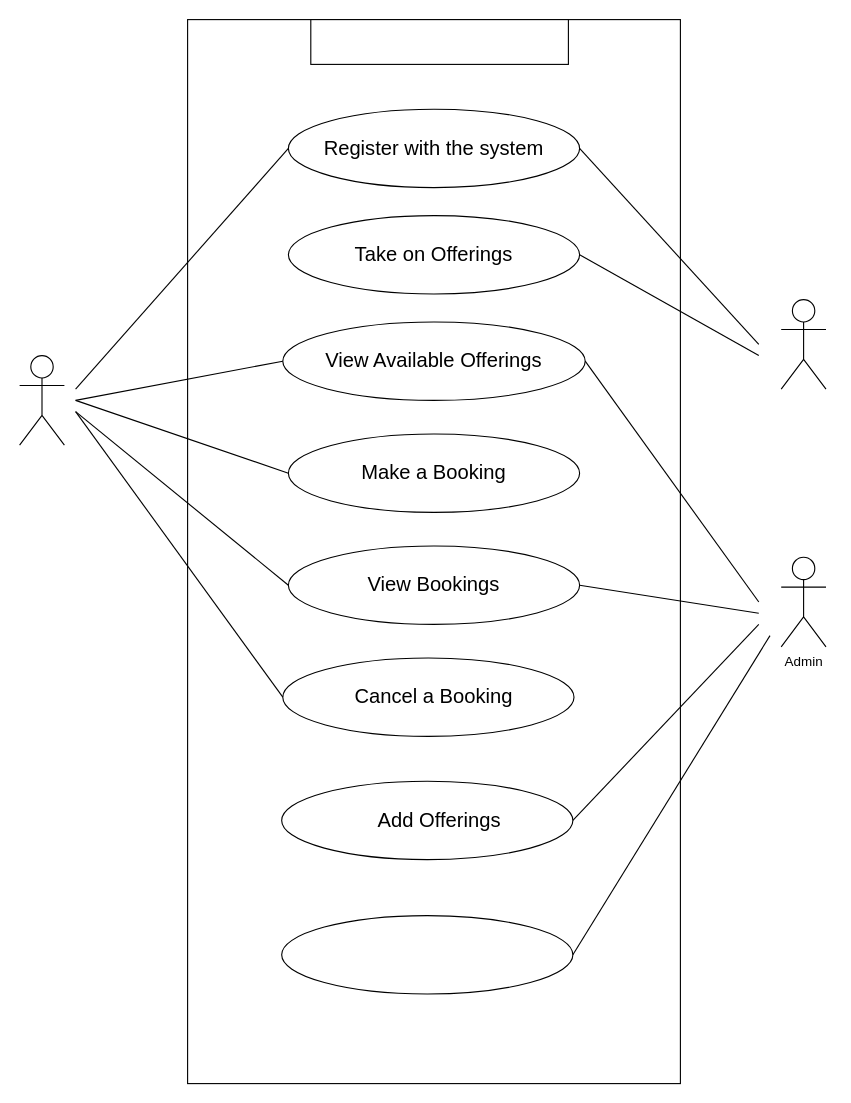
Some shapes in this 851 by 1103 pixel diagram are drawn without their labels. Here are the shapes that lost their labels. From the top down, the centre of each, then its label:
At pixel 439 41: "Online Booking".
At pixel 803 343: "Instructor".
At pixel 41 399: "Client".
At pixel 427 954: "Delete an Account".
